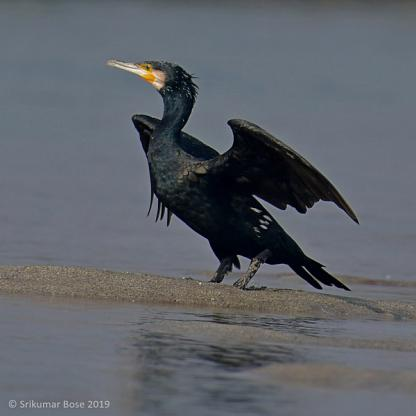Burung: (105, 58, 363, 296)
